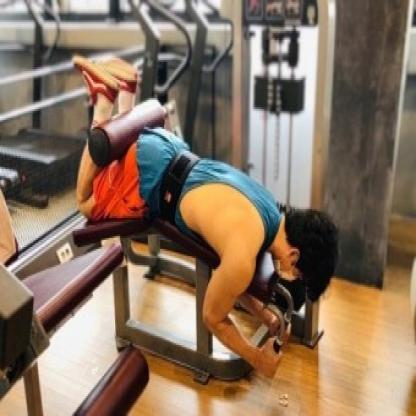reg curl machine: (64, 0, 339, 389)
